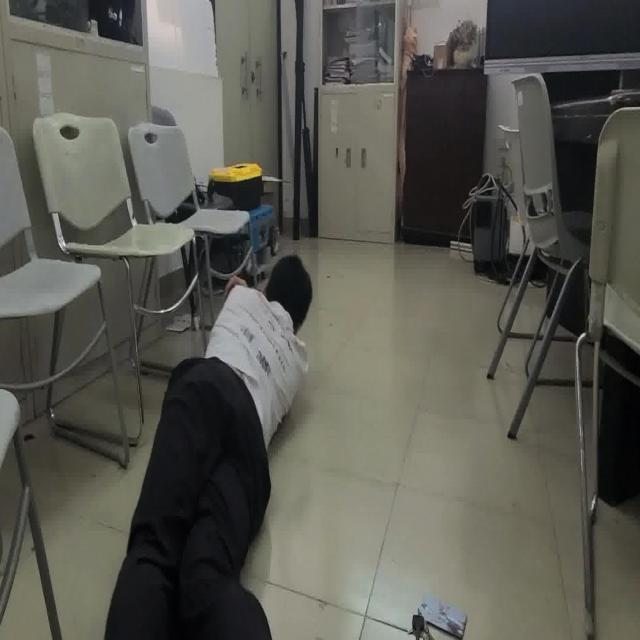fall: (104, 250, 312, 640)
